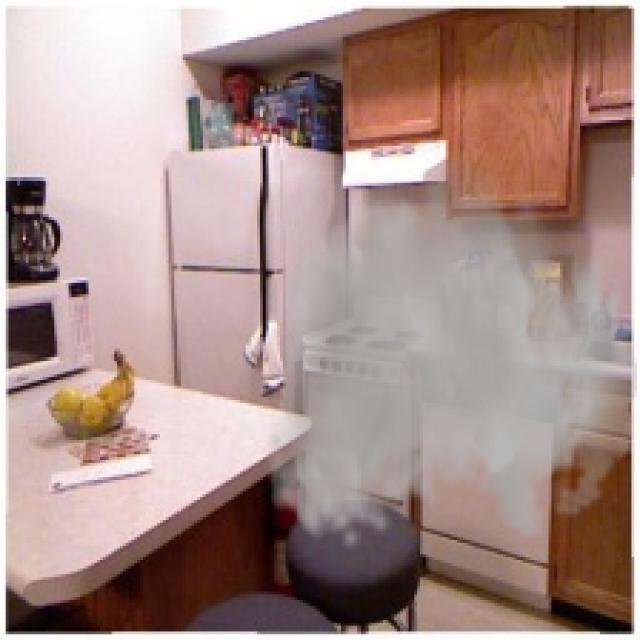smoke: (266, 140, 637, 551)
